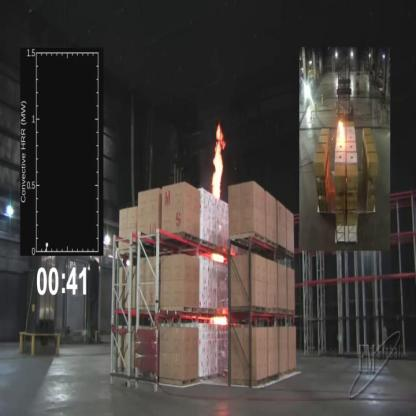fire: (210, 121, 226, 207)
